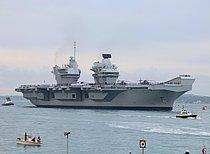MIL_Ship: (12, 50, 197, 112)
